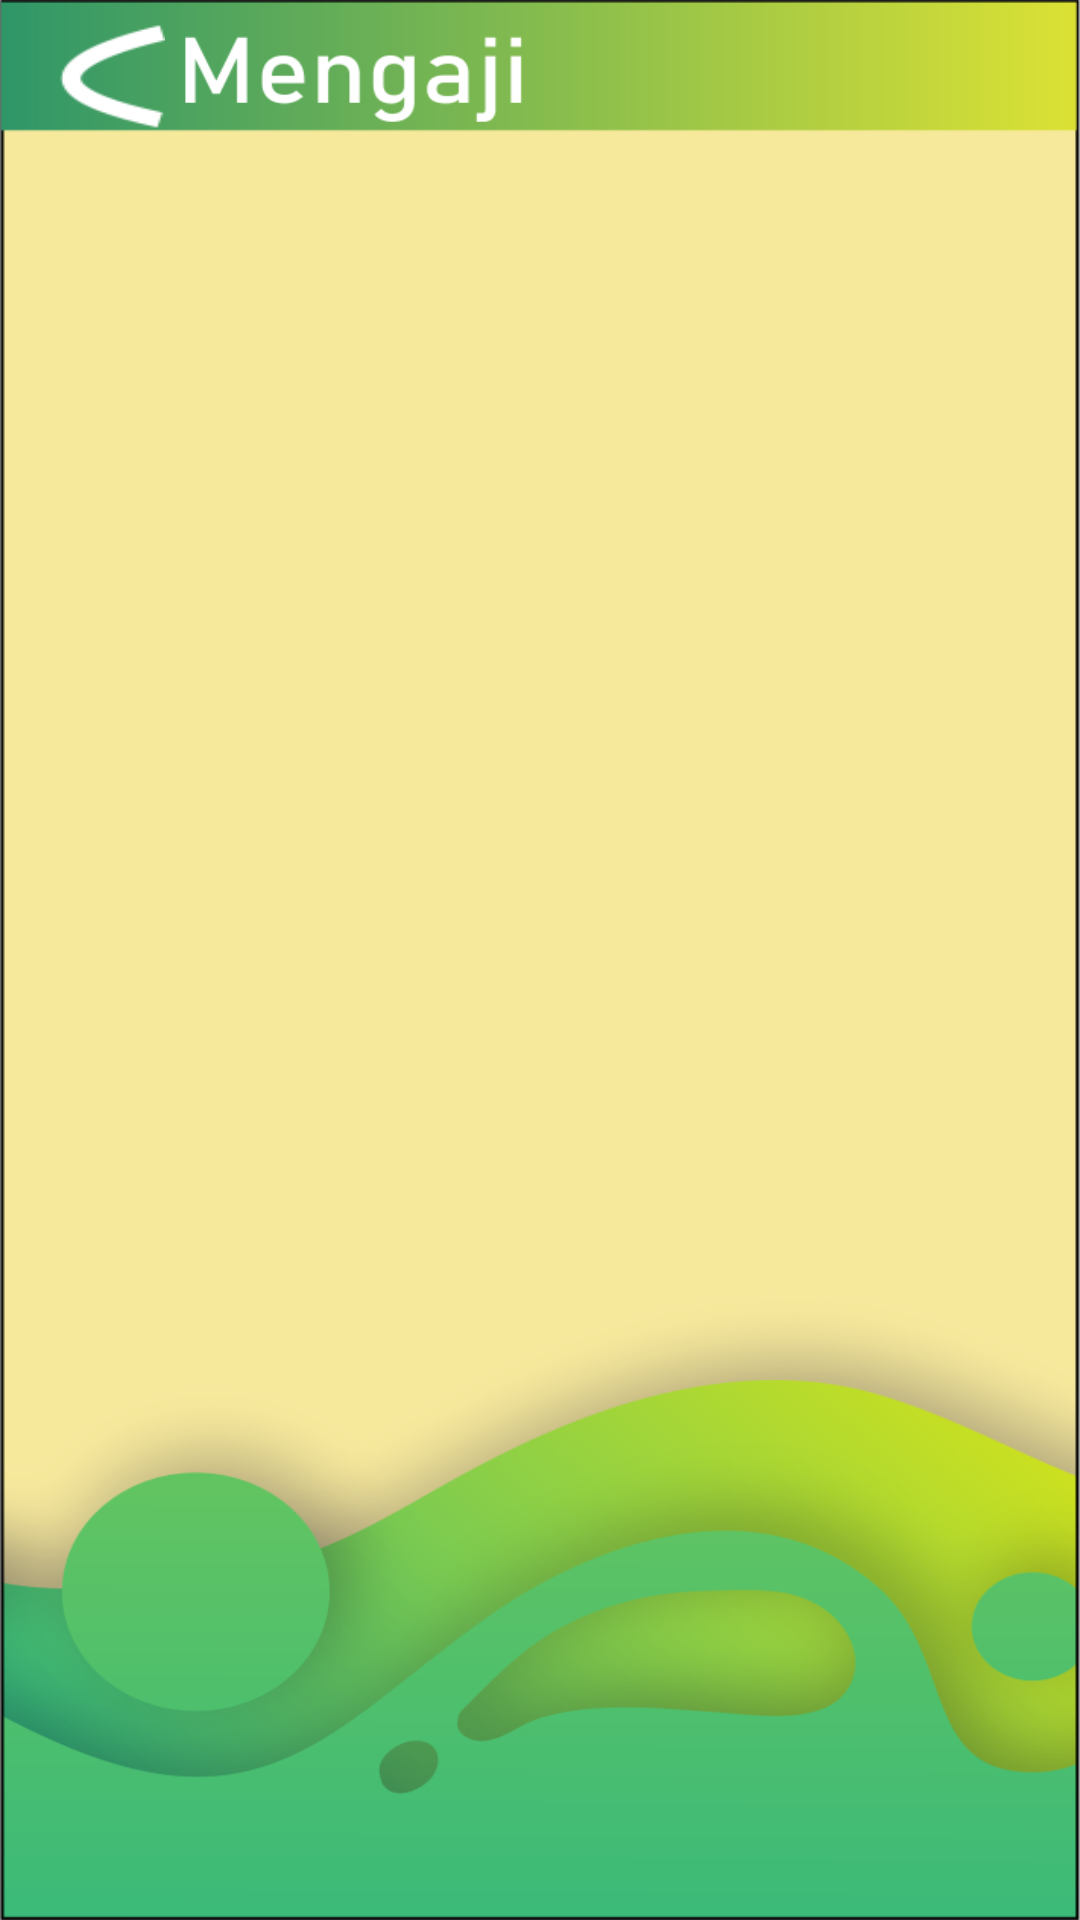

Screen size 1080*1920. Icon name, then its center in pixels as (x,y):
bback: (112,76)
